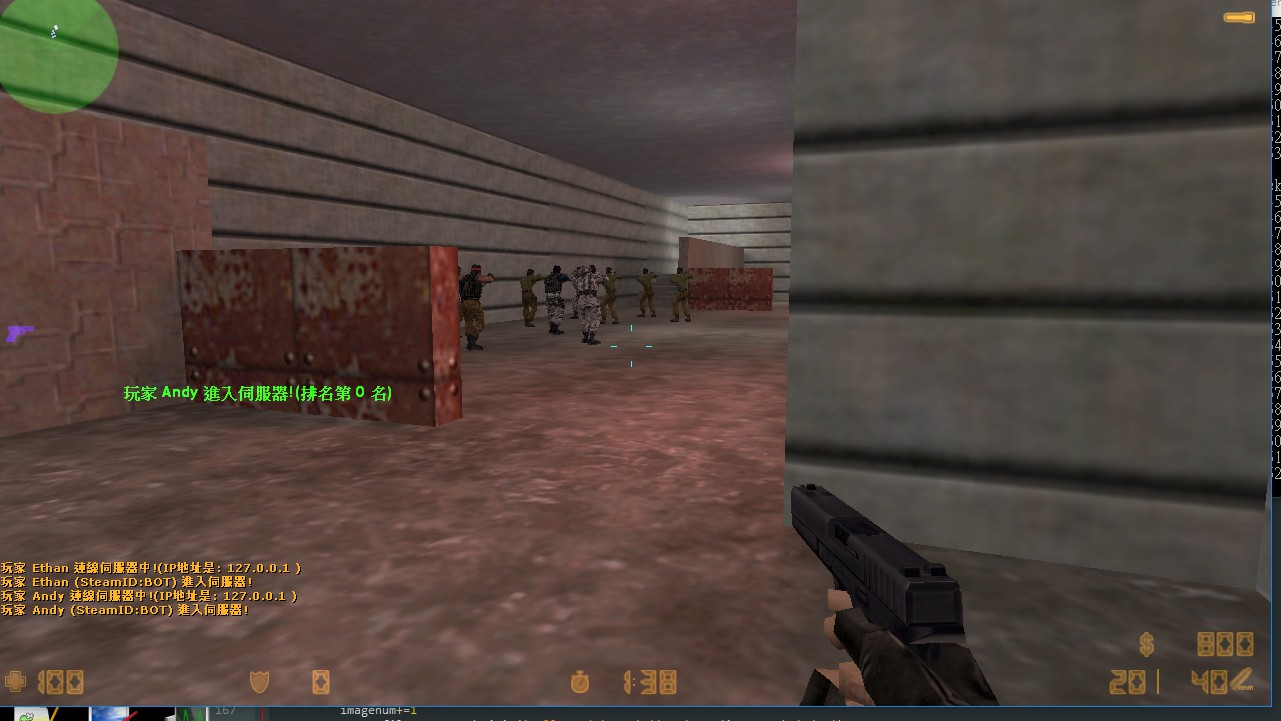person: (461, 262, 494, 353), (578, 262, 610, 343), (542, 256, 567, 339), (628, 258, 657, 321), (665, 261, 694, 323), (514, 263, 539, 330), (602, 265, 618, 324), (571, 262, 581, 321)
